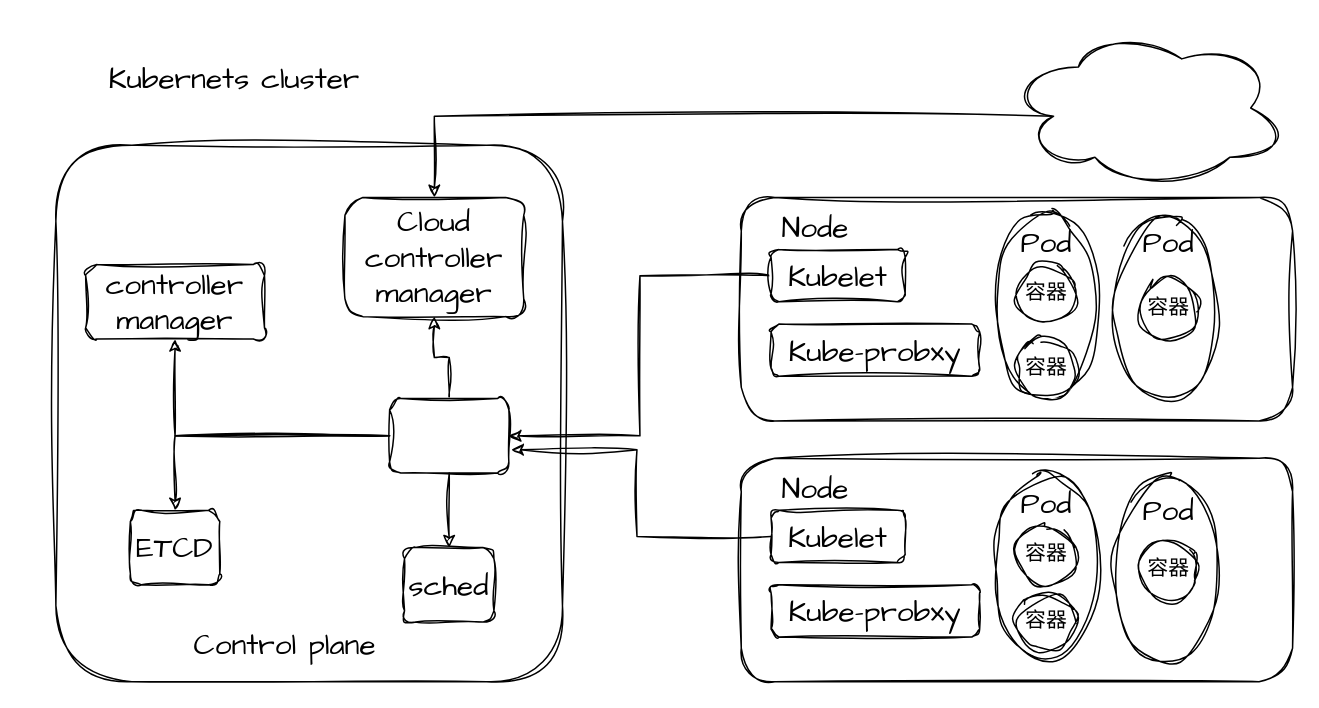
Some shapes in this 1319 by 708 pixel diagram are drawn without their labels. The box of each missing label's shape, as (x1, y1, x2, y2) in pixels:
API server: (388, 397, 509, 473)
Cloud Provider API: (1008, 25, 1285, 190)
